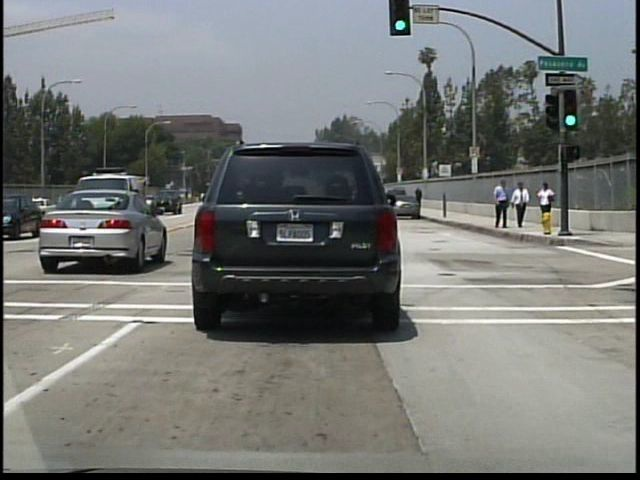person: (491, 178, 511, 234), (512, 180, 532, 229), (536, 180, 556, 212), (414, 187, 424, 210)
